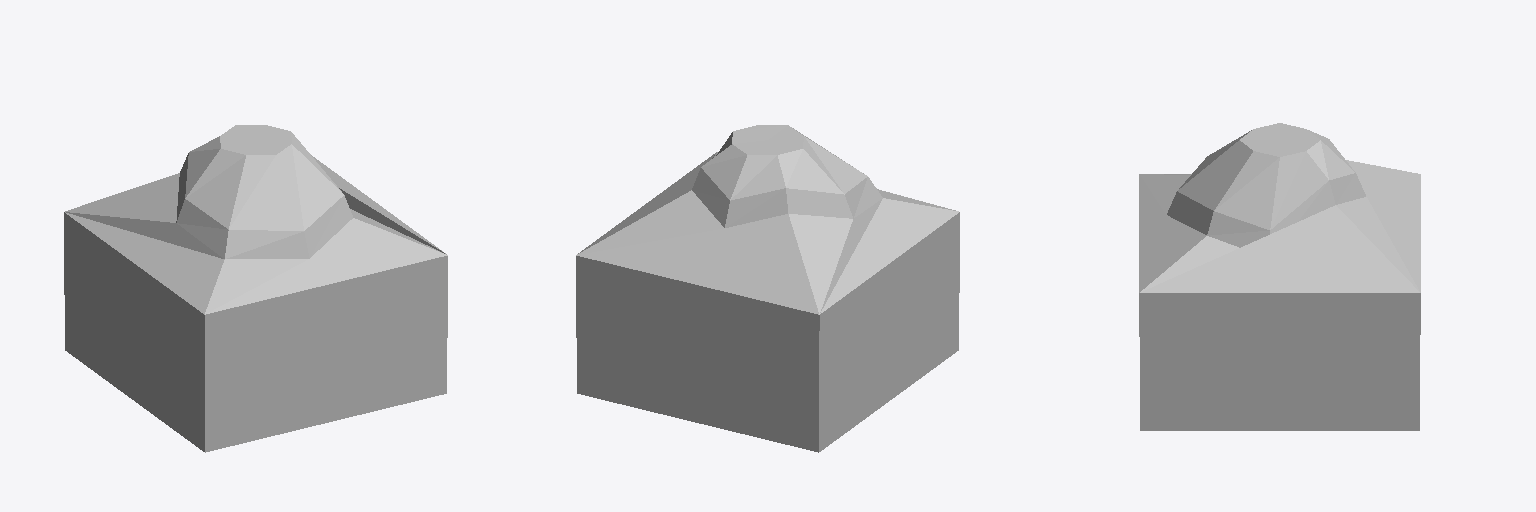
File: polyp.obj
The picture shows the model from 3 angles: view 1: azimuth 30°, elevation 25°; view 2: azimuth 150°, elevation 25°; view 3: azimuth 270°, elevation 25°; orthographic projection.
Parts seen in each view (by area): view 1: Cube, Cube.001; view 2: Cube, Cube.001; view 3: Cube, Cube.001.
Part boxes in pixels (left/top/right/bottom): Cube: left=64, top=155, right=447, bottom=452; Cube.001: left=176, top=125, right=352, bottom=258; Cube: left=576, top=152, right=959, bottom=452; Cube.001: left=692, top=125, right=882, bottom=227; Cube: left=1139, top=160, right=1420, bottom=430; Cube.001: left=1167, top=123, right=1365, bottom=247.
Size of the model in its own units: 1.1 by 1 by 1.1.